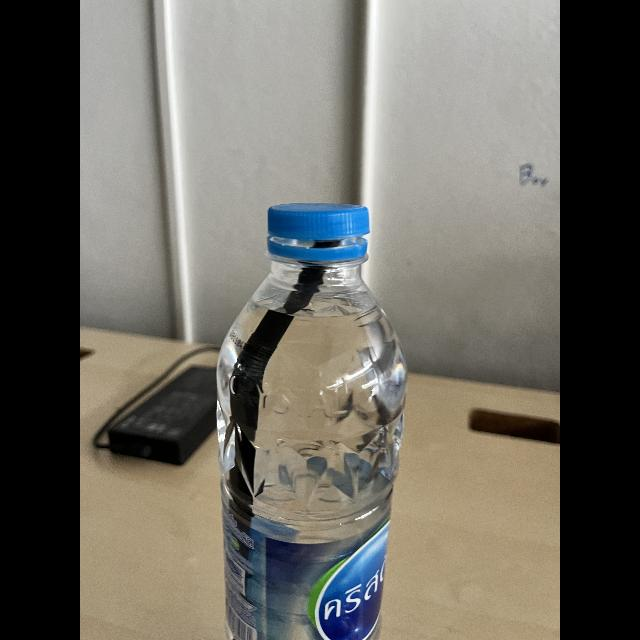plastic_bottle_cap: (260, 188, 376, 246)
